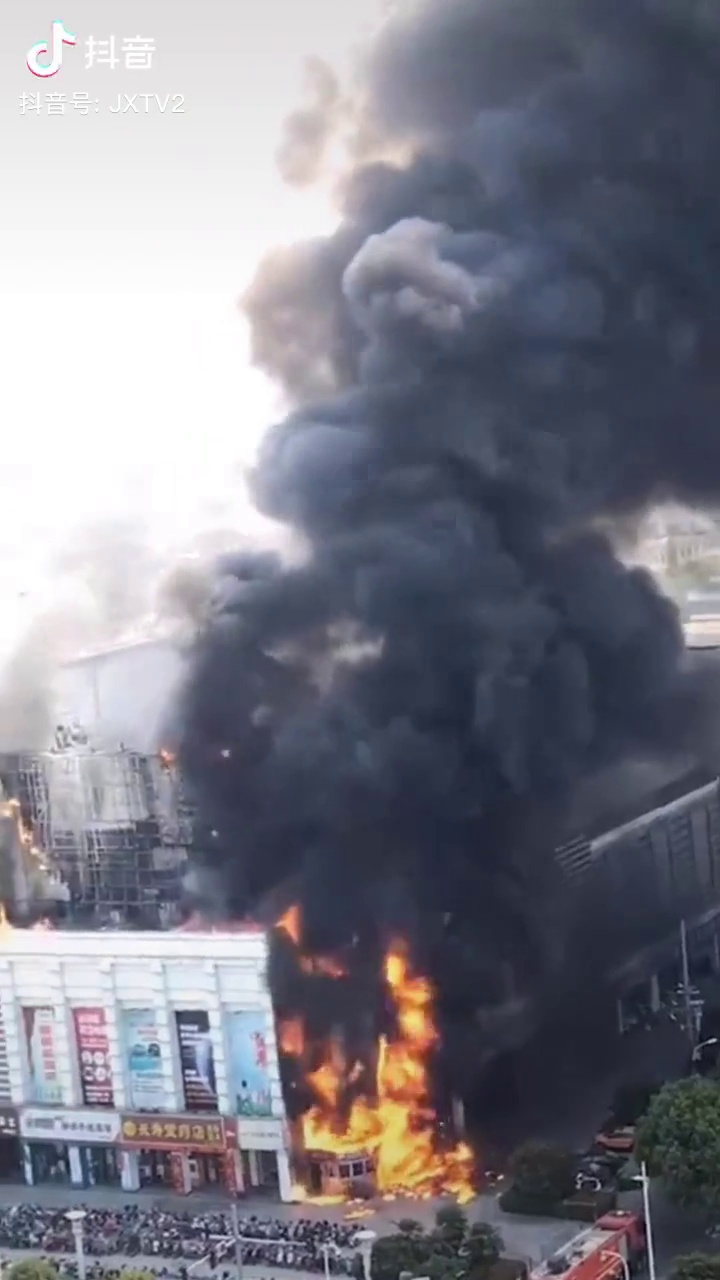fire: (274, 920, 472, 1204)
yanwu: (227, 28, 692, 851)
